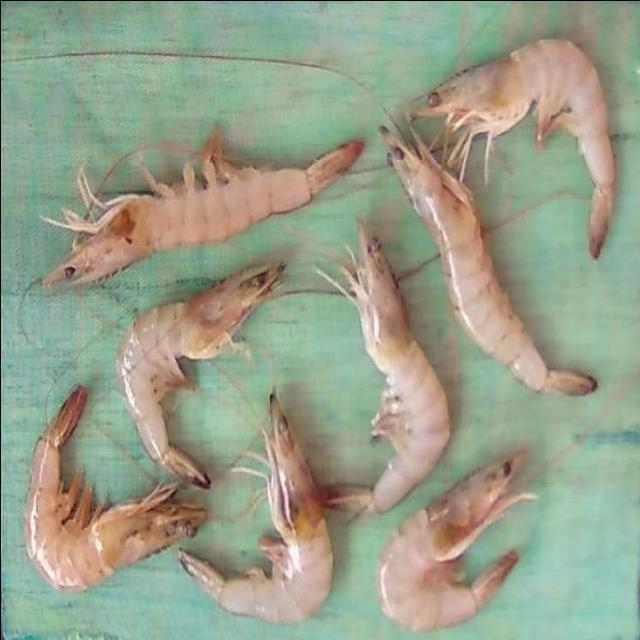shrimp: (381, 127, 597, 395), (41, 131, 363, 285), (412, 37, 616, 257), (115, 263, 282, 489), (23, 387, 206, 590), (177, 392, 332, 622), (343, 222, 450, 514), (377, 451, 533, 630)
